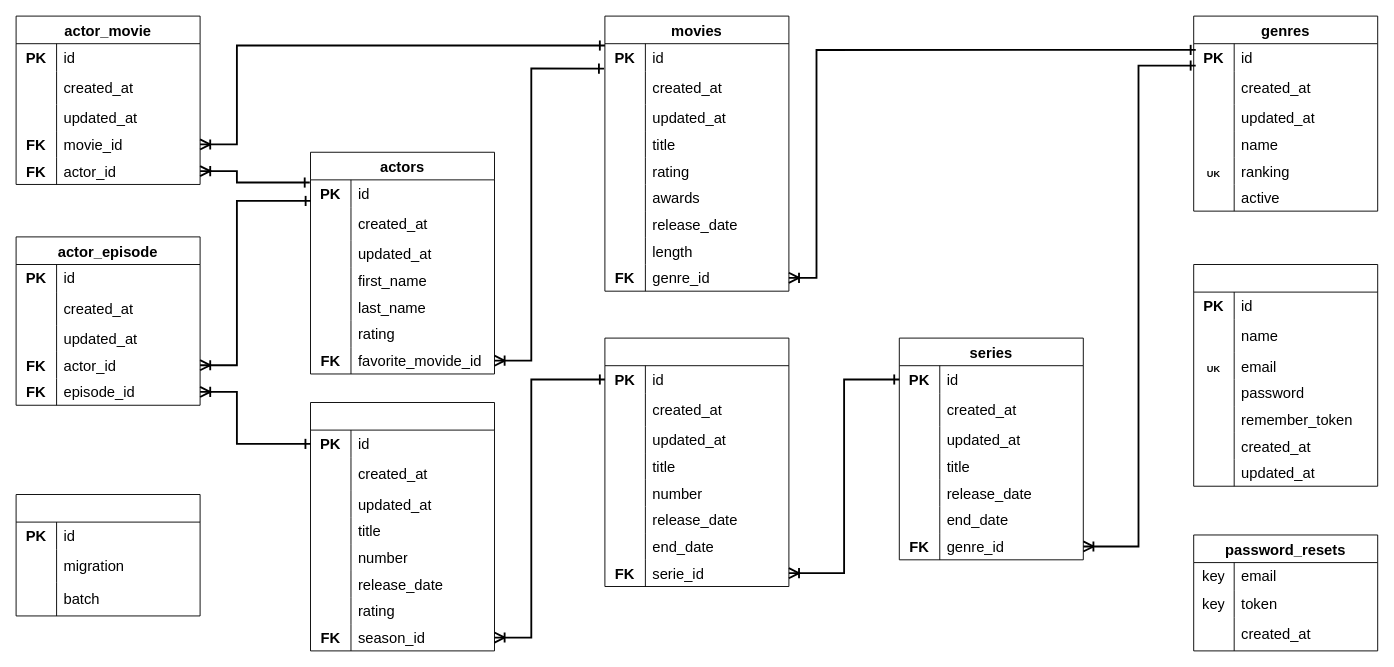
The diagram is 1394 pixels wide and 667 high, and some of its shapes have lost their labels. Each missing label, with the box of its shape:
episodes: (310, 402, 494, 651)
migrations: (15, 494, 200, 616)
seasons: (604, 337, 789, 586)
users: (1193, 264, 1378, 486)
